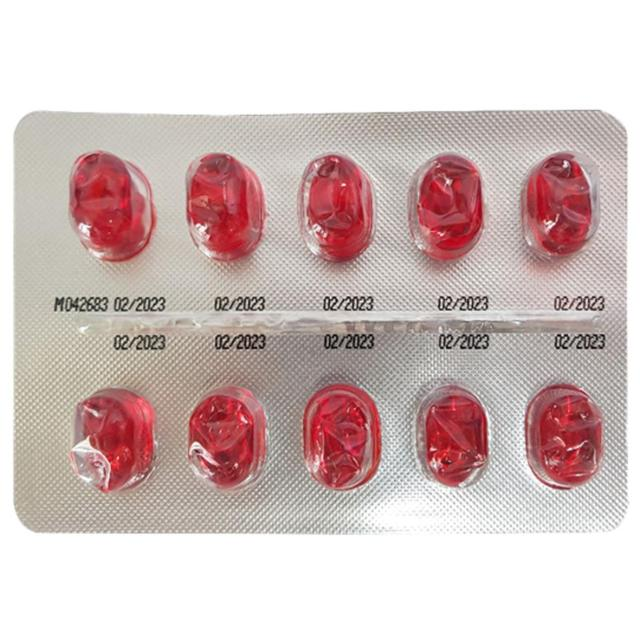blister: (4, 99, 637, 545)
